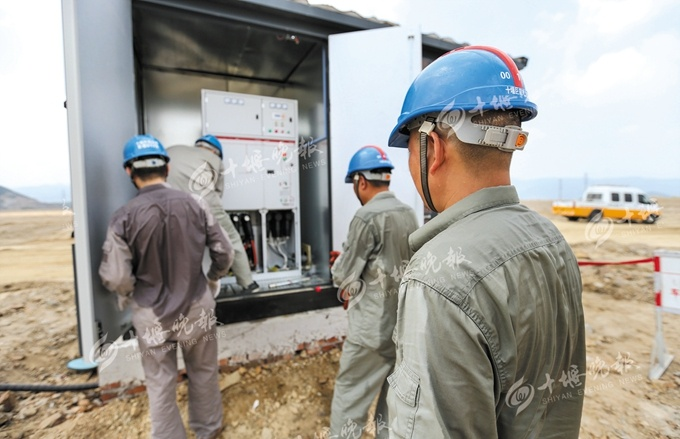blue: (393, 45, 538, 210), (121, 133, 173, 192), (345, 145, 396, 204)
